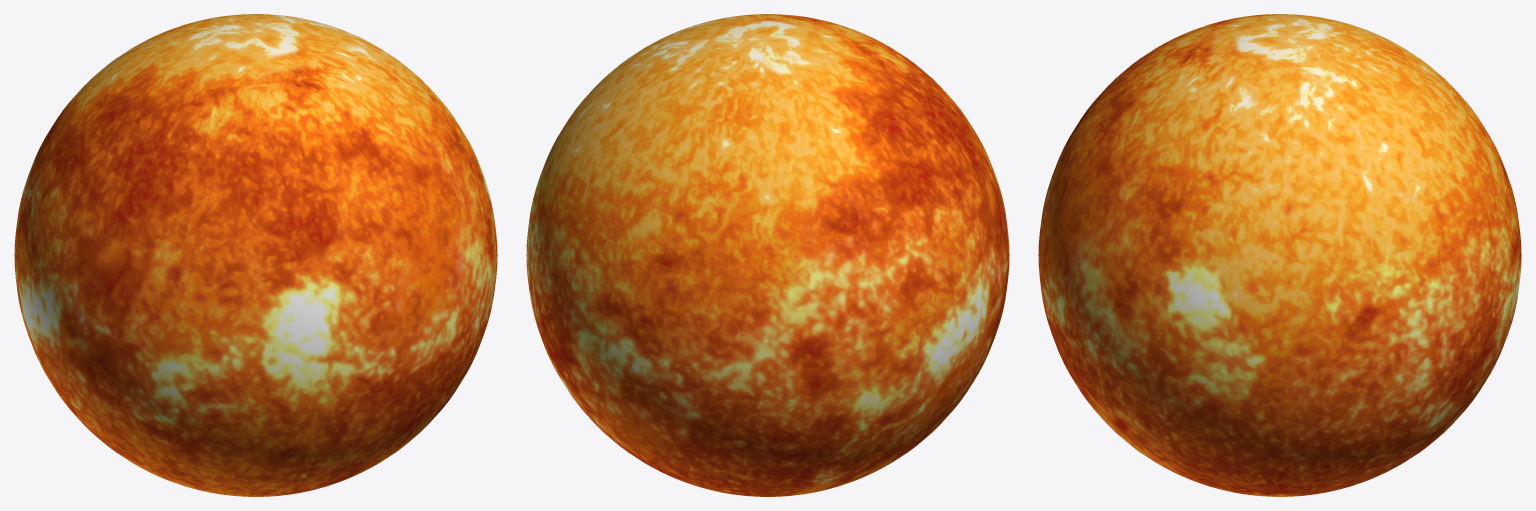
File: Sun.fbx
3 renders of one model, left to right at view 1: azimuth 30°, elevation 25°; view 2: azimuth 150°, elevation 25°; view 3: azimuth 270°, elevation 25°, orthographic.
Parts seen in each view (by area): view 1: pSphere1; view 2: pSphere1; view 3: pSphere1.
Boxes of the visible parts, left/top/right/bottom form: pSphere1: left=14, top=14, right=497, bottom=496; pSphere1: left=526, top=14, right=1009, bottom=496; pSphere1: left=1038, top=14, right=1521, bottom=496.
Bounding box in the file's own units: 27.35 × 27.35 × 27.35.
Materials: 1 (1 with a texture image).
